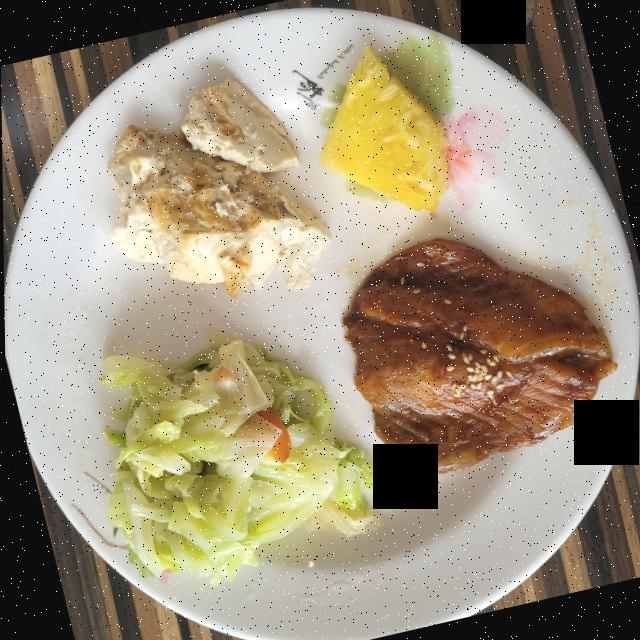Kabayaki sea bream fillet: (342, 238, 615, 471)
cabbage: (101, 331, 381, 585)
coin: (469, 0, 535, 37)
pineapple: (319, 46, 449, 211)
